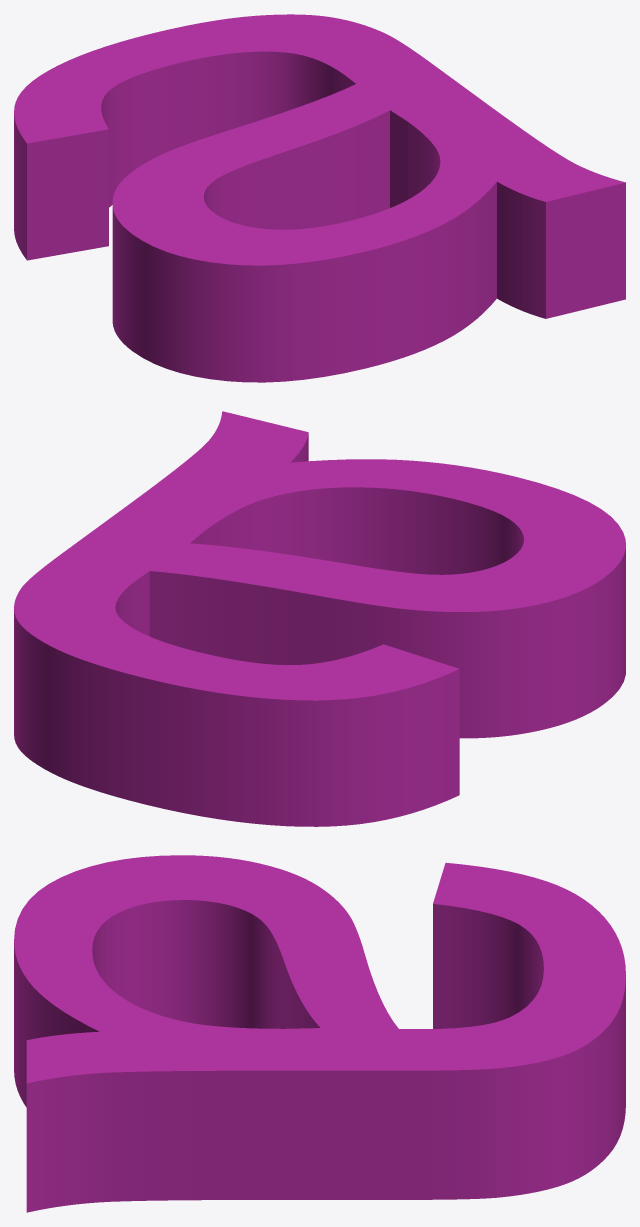
File: huruf a biasa.FBX
3 views of the same model, one above another, from view 1: azimuth 30°, elevation 25°; view 2: azimuth 150°, elevation 25°; view 3: azimuth 270°, elevation 25° (orthographic). The views are drawn at different scales.
Visible parts, largest first — view 1: a; view 2: a; view 3: a.
Part boxes in pixels (x1=…): a: x1=14, y1=14, x2=625, y2=382; a: x1=14, y1=411, x2=625, y2=826; a: x1=14, y1=855, x2=625, y2=1212.
Bounding box in the file's own units: 24.61 × 6.5 × 27.89.
